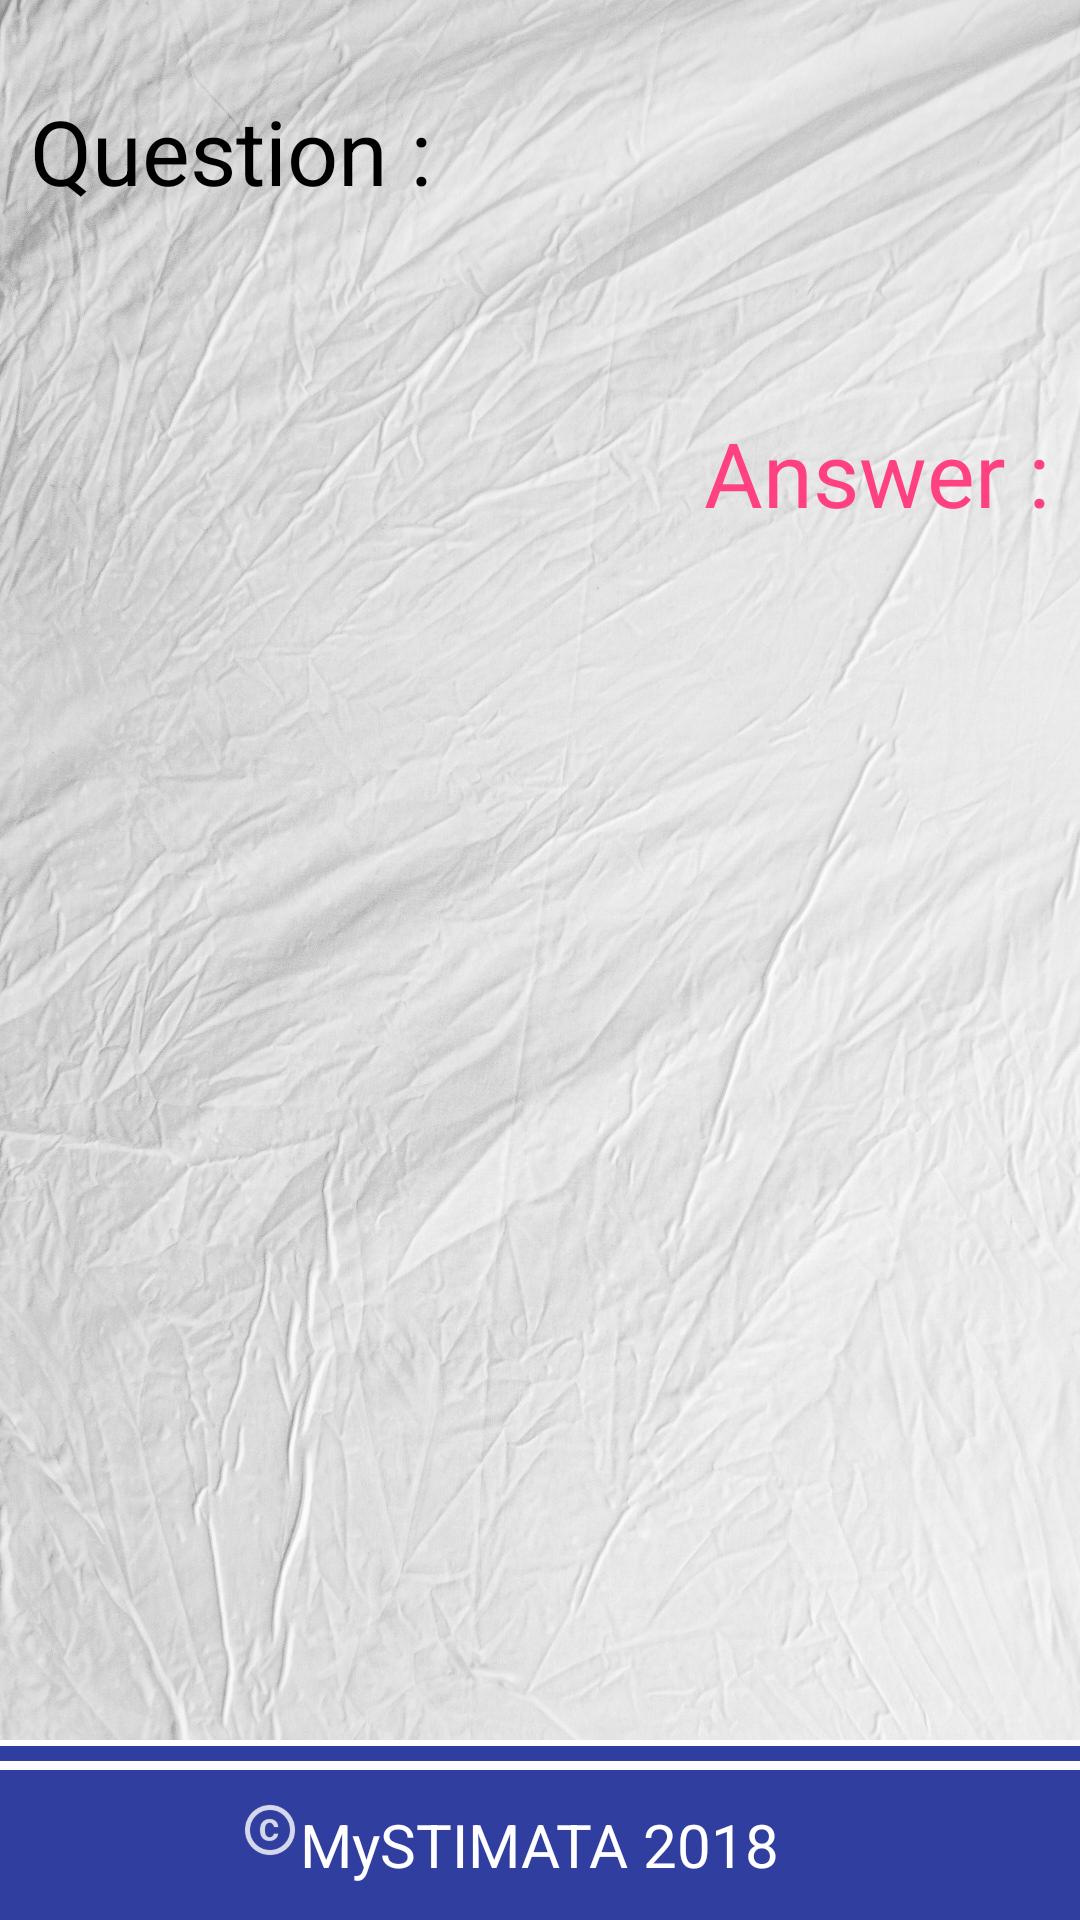

Screen size 1080 x 1920. Icon name, then its box in pixels as bbox(x1, y1, x2, y2):
copyright: bbox(245, 1805, 295, 1855)
